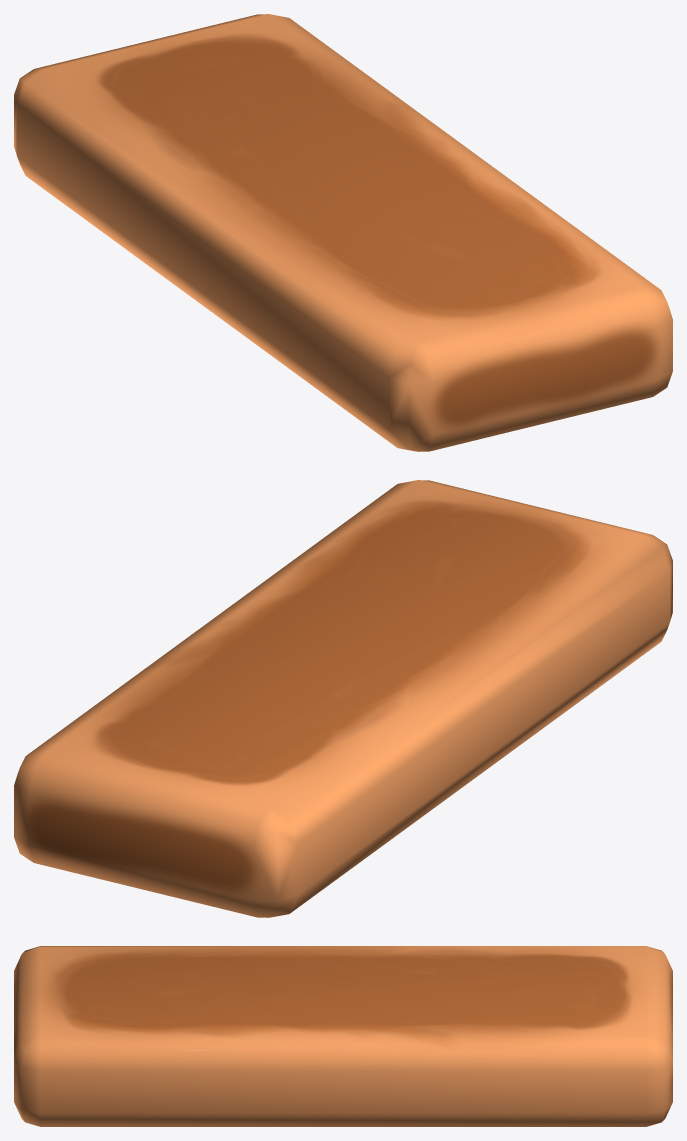
File: smallWood.fbx
3 views of the same model, one above another, from view 1: azimuth 30°, elevation 25°; view 2: azimuth 150°, elevation 25°; view 3: azimuth 270°, elevation 25° (orthographic). The views are drawn at different scales.
Visible parts, largest first — view 1: castle gate.002; view 2: castle gate.002; view 3: castle gate.002.
Boxes of the visible parts, bbox=[...] form: castle gate.002: bbox=[14, 14, 672, 451]; castle gate.002: bbox=[14, 480, 672, 917]; castle gate.002: bbox=[14, 946, 672, 1126].
Bounding box in the file's own units: 7885 × 2977 × 19705.
